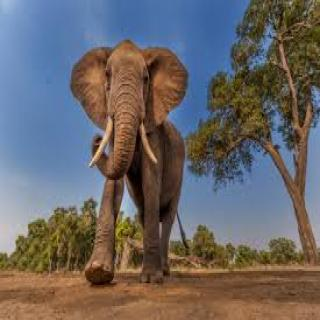Elephant: (68, 35, 196, 290)
